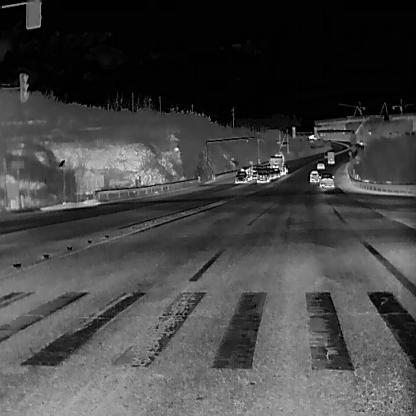car: (268, 150, 286, 175), (318, 172, 333, 188), (255, 168, 270, 183), (238, 166, 253, 181), (234, 170, 248, 184), (265, 167, 276, 180), (309, 169, 319, 182), (326, 151, 335, 164), (272, 166, 280, 178), (254, 164, 263, 174), (316, 159, 325, 169), (251, 167, 258, 179), (282, 163, 288, 173), (262, 163, 270, 170), (358, 140, 363, 145), (327, 138, 331, 142)
